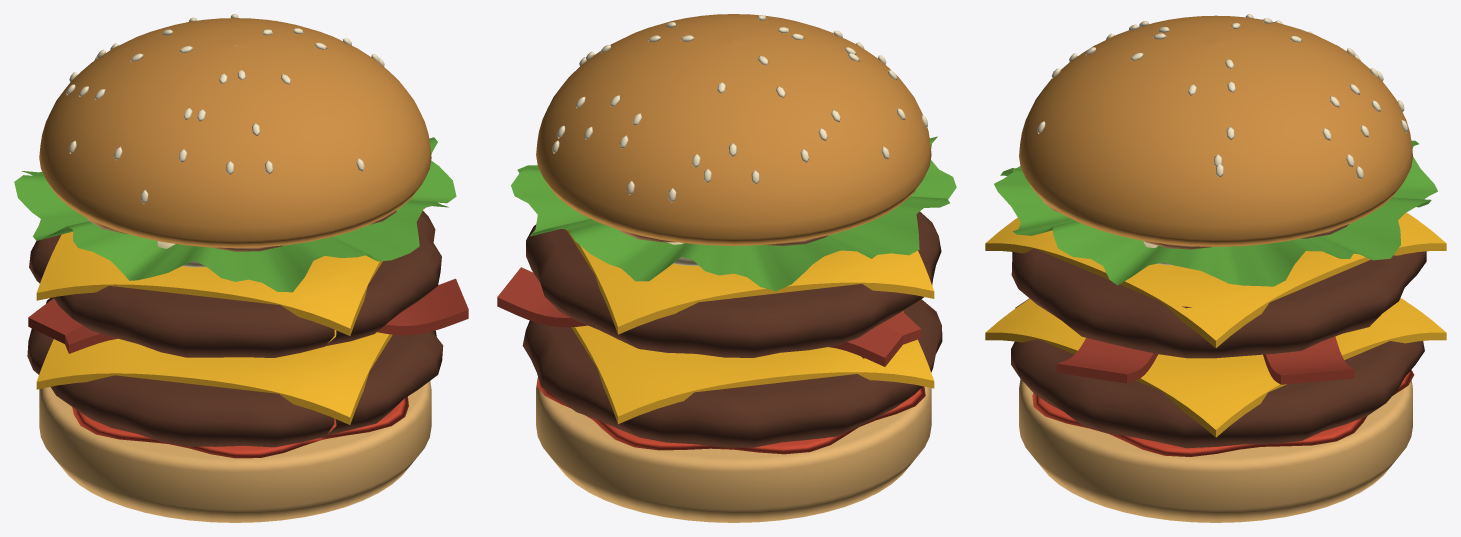
The model's file is bigbang-burger.glb.
3 renders of one model, left to right at view 1: azimuth 30°, elevation 25°; view 2: azimuth 150°, elevation 25°; view 3: azimuth 270°, elevation 25°, orthographic.
Parts seen in each view (by area): view 1: Top_Bun, Bottom_Bun, Patty_Bottom, Patty_Top, Lettuce, Cheese_Bottom, Cheese_Top, Bacon, Sauce_Bottom; view 2: Top_Bun, Bottom_Bun, Patty_Bottom, Patty_Top, Lettuce, Cheese_Bottom, Cheese_Top, Bacon, Sauce_Bottom; view 3: Top_Bun, Bottom_Bun, Patty_Top, Patty_Bottom, Lettuce, Cheese_Bottom, Cheese_Top, Bacon, Sauce_Bottom.
Boxes of the visible parts, x1=… form: Top_Bun: x1=39, y1=14, x2=431, y2=248; Bottom_Bun: x1=39, y1=381, x2=431, y2=522; Patty_Bottom: x1=27, y1=297, x2=443, y2=447; Patty_Top: x1=29, y1=211, x2=441, y2=357; Lettuce: x1=14, y1=137, x2=456, y2=292; Cheese_Bottom: x1=36, y1=330, x2=392, y2=424; Cheese_Top: x1=36, y1=207, x2=425, y2=335; Bacon: x1=28, y1=278, x2=468, y2=353; Sauce_Bottom: x1=72, y1=396, x2=408, y2=458; Top_Bun: x1=536, y1=14, x2=931, y2=245; Bottom_Bun: x1=536, y1=377, x2=931, y2=522; Patty_Bottom: x1=522, y1=299, x2=942, y2=447; Patty_Top: x1=526, y1=211, x2=941, y2=357; Lettuce: x1=511, y1=136, x2=956, y2=291; Cheese_Bottom: x1=571, y1=311, x2=934, y2=424; Cheese_Top: x1=566, y1=230, x2=934, y2=334; Bacon: x1=497, y1=267, x2=921, y2=366; Sauce_Bottom: x1=536, y1=379, x2=925, y2=454; Top_Bun: x1=1019, y1=14, x2=1412, y2=246; Bottom_Bun: x1=1019, y1=379, x2=1412, y2=522; Patty_Top: x1=1011, y1=248, x2=1426, y2=358; Patty_Bottom: x1=1011, y1=298, x2=1424, y2=448; Lettuce: x1=994, y1=140, x2=1437, y2=286; Cheese_Bottom: x1=985, y1=298, x2=1446, y2=437; Cheese_Top: x1=985, y1=212, x2=1446, y2=347; Bacon: x1=1056, y1=336, x2=1354, y2=384; Sauce_Bottom: x1=1032, y1=370, x2=1414, y2=456.
Size of the model in its own units: 0.1358 by 0.1314 by 0.1358.
